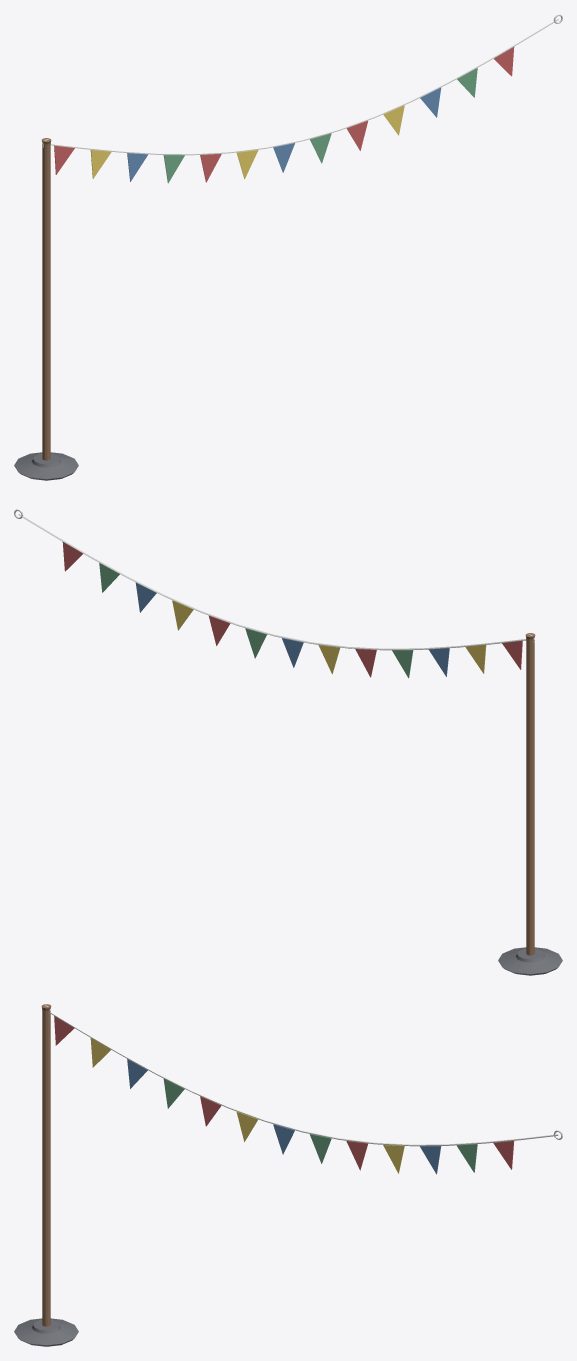
3 renders of one model, top to bottom at view 1: azimuth 30°, elevation 25°; view 2: azimuth 150°, elevation 25°; view 3: azimuth 330°, elevation 25°, orthographic.
Visible parts, largest first — view 1: bunting-run-on-poles; view 2: bunting-run-on-poles; view 3: bunting-run-on-poles.
Boxes of the visible parts, bbox=[...] form: bunting-run-on-poles: bbox=[14, 14, 562, 480]; bunting-run-on-poles: bbox=[14, 509, 562, 975]; bunting-run-on-poles: bbox=[14, 1004, 562, 1346].
Bounding box in the file's own units: 4.26 × 2.45 × 0.44.
